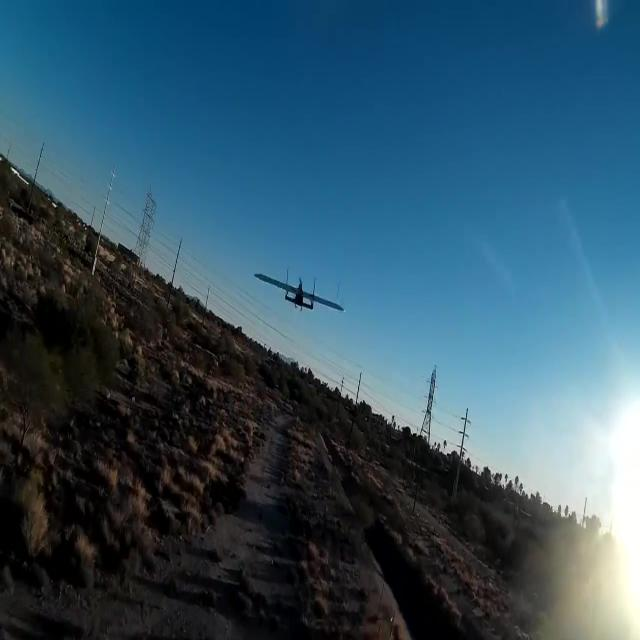iha: (285, 266, 314, 317)
